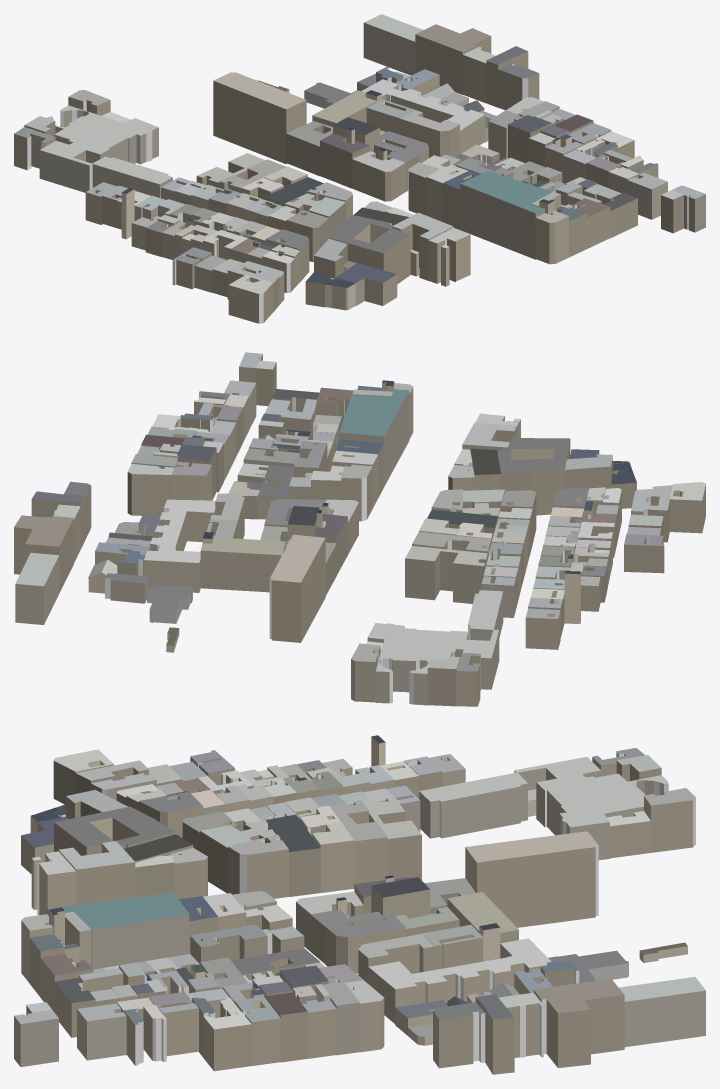
3 views of the same model, one above another, from view 1: azimuth 30°, elevation 25°; view 2: azimuth 150°, elevation 25°; view 3: azimuth 270°, elevation 25° (orthographic). The views are drawn at different scales.
Parts seen in each view (by area): view 1: tuile; view 2: tuile; view 3: tuile.
Boxes of the visible parts, box(x1,y1,x2,y2) form: tuile: box(14, 14, 705, 323); tuile: box(14, 352, 705, 706); tuile: box(14, 735, 705, 1074).
Bounding box in the file's own units: 270 × 31.26 × 272.
